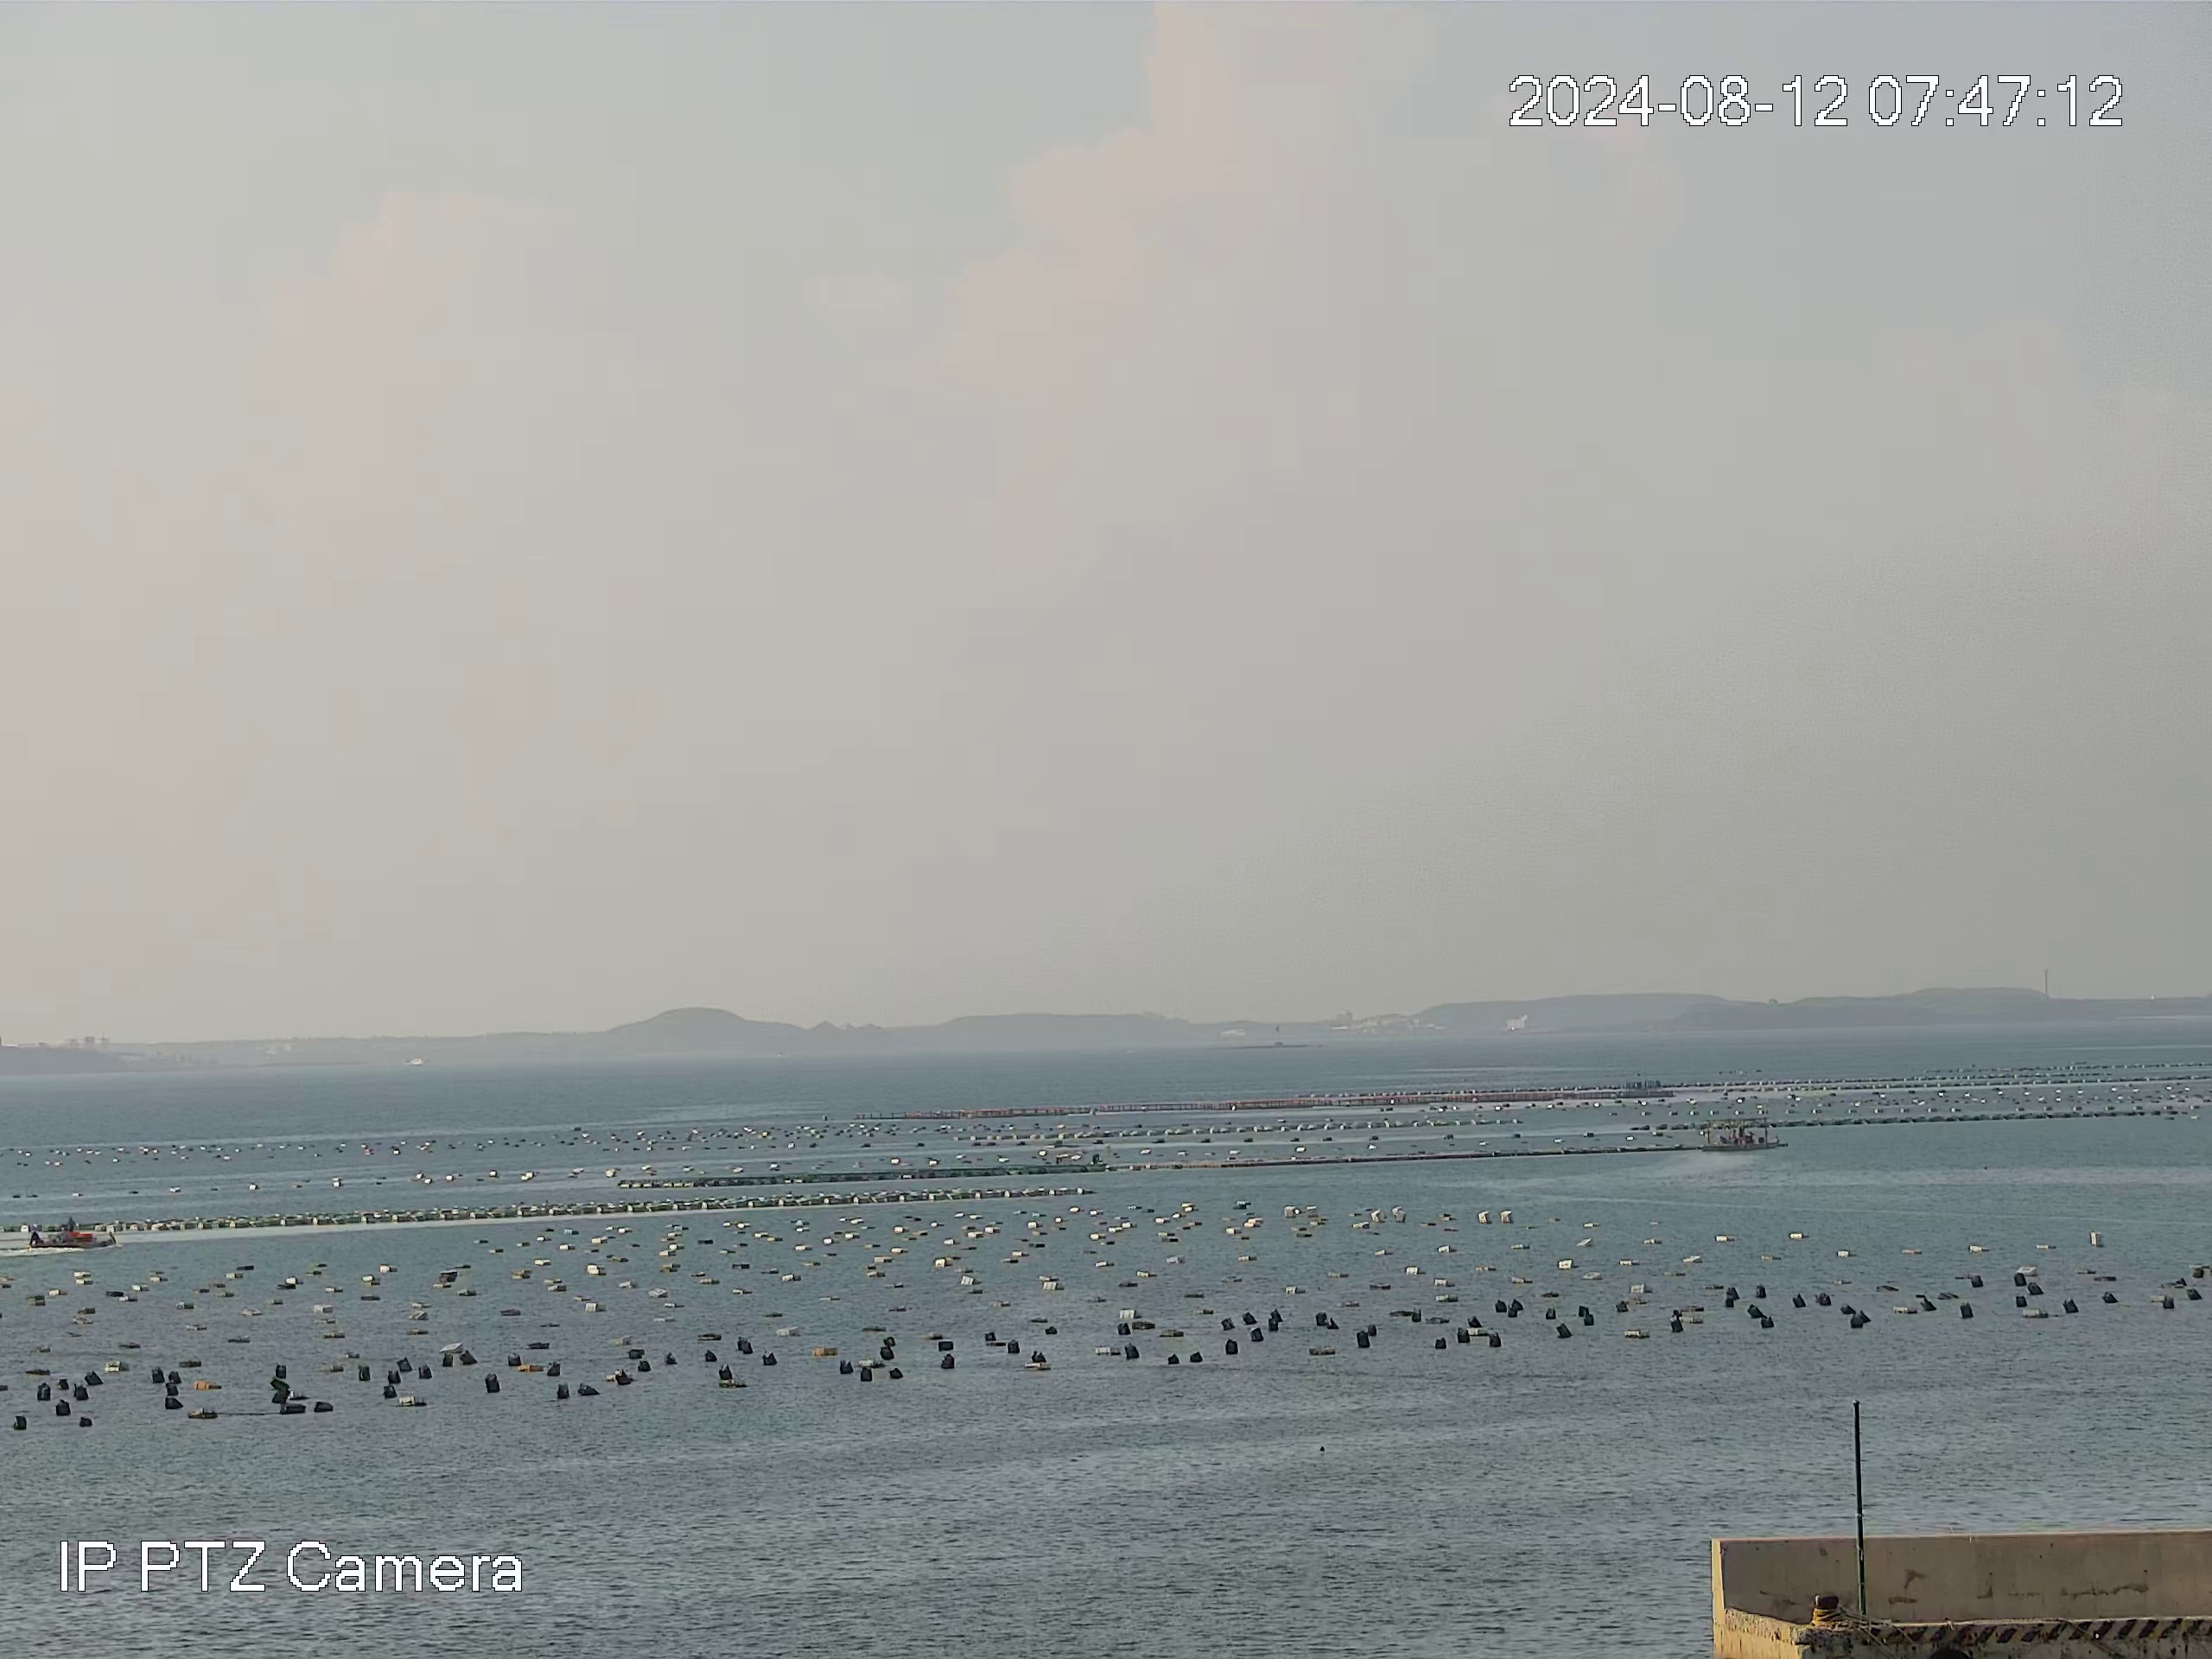boat: (28, 1218, 118, 1251), (1700, 1115, 1782, 1152)
